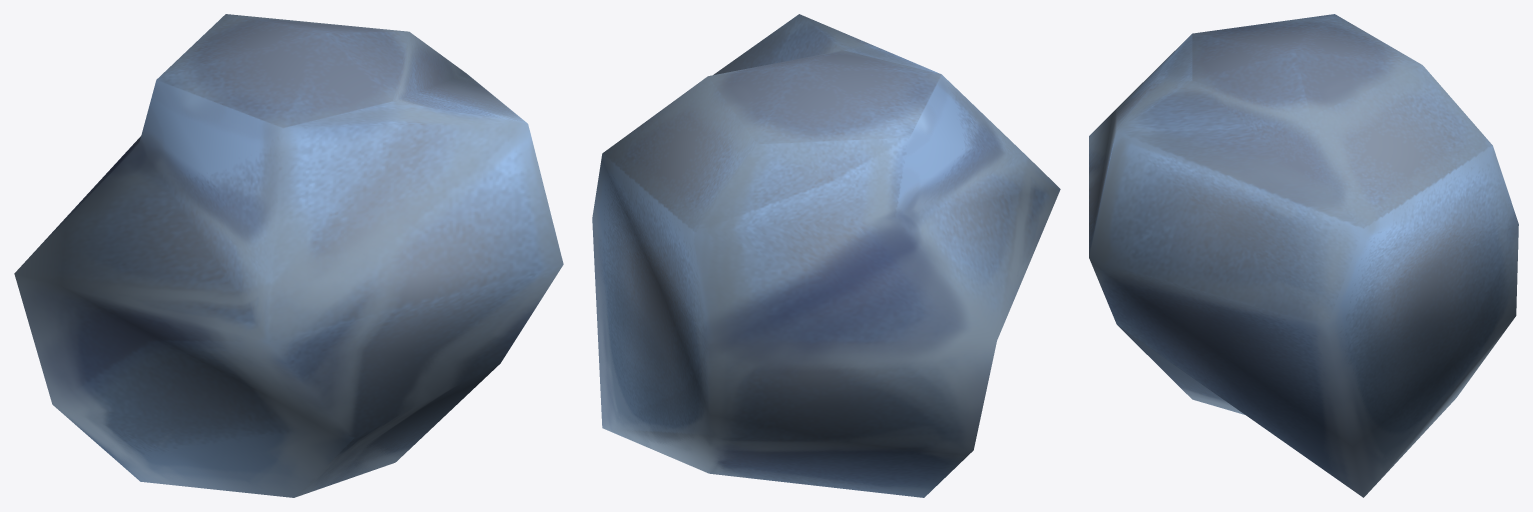
File: WhaleRock.fbx
The picture shows the model from 3 angles, left to right: view 1: azimuth 30°, elevation 25°; view 2: azimuth 150°, elevation 25°; view 3: azimuth 270°, elevation 25°; orthographic projection. The views are drawn at different scales.
Parts seen in each view (by area): view 1: Sphere; view 2: Sphere; view 3: Sphere.
Boxes of the visible parts, x1,y1,x2,y2 form: Sphere: (14, 14, 563, 497); Sphere: (592, 14, 1060, 497); Sphere: (1089, 14, 1518, 497).
Size of the model in its own units: 190 by 162 by 169.
